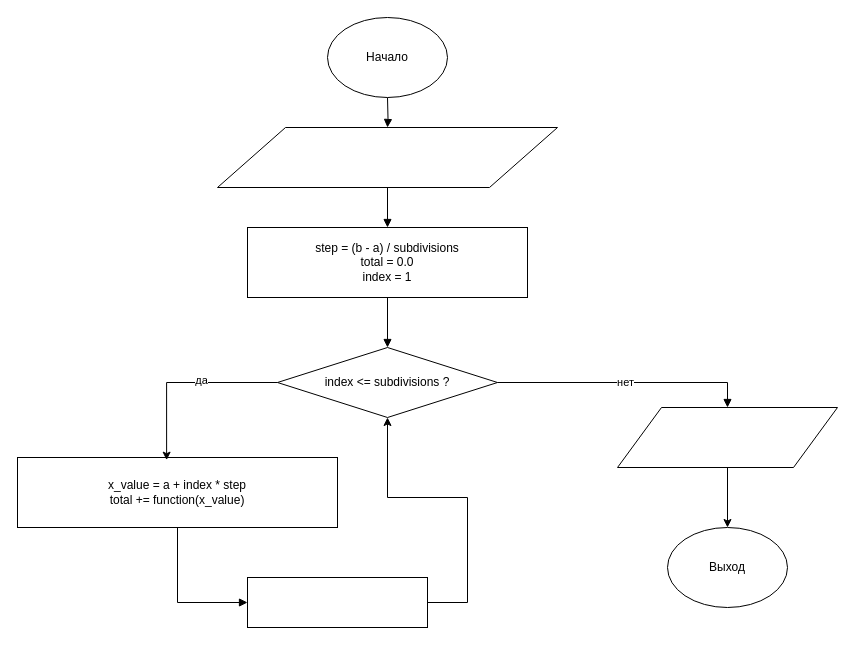
The diagram is 855 pixels wide and 645 high, and some of its shapes have lost their labels. The shapes that lost their labels are listed below. From the top down, each one's centre as x and y in pixels, then its label:
point 387,157: Вход: function, a, b, subdivisions
point 727,437: Вернуть step * total
point 337,602: index += 1
